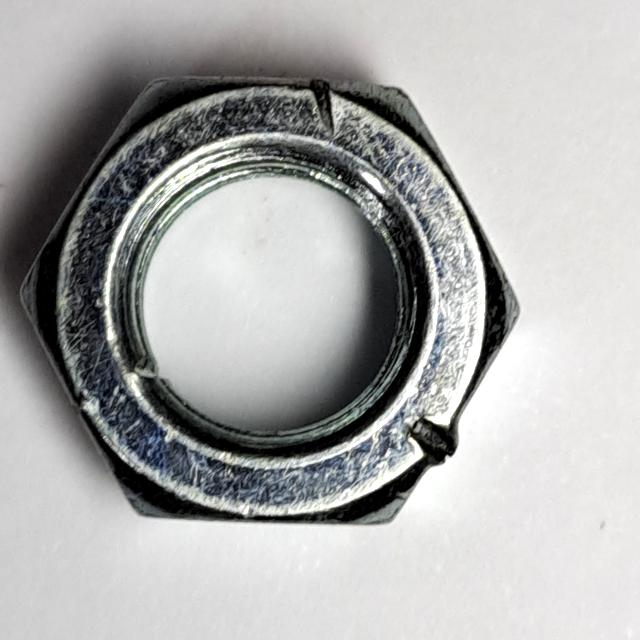Scratches: (6, 59, 534, 542)
